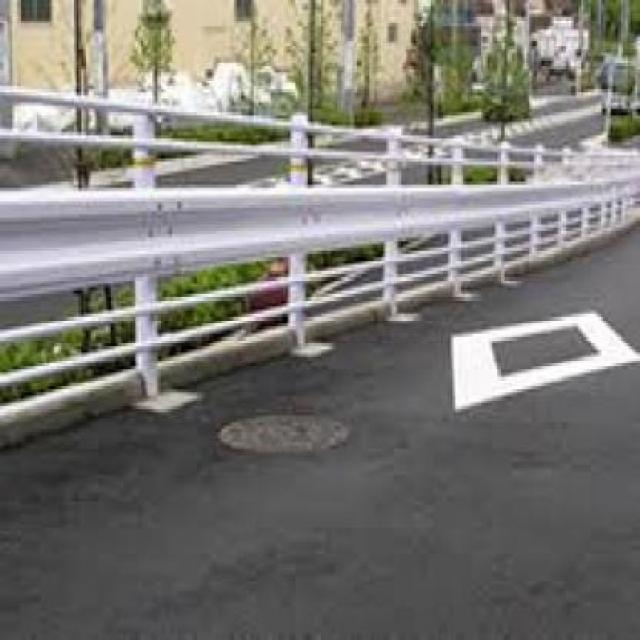Guard rail: (1, 94, 640, 443)
